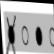correct: (34, 25, 43, 49)
not correct: (3, 12, 19, 54)
